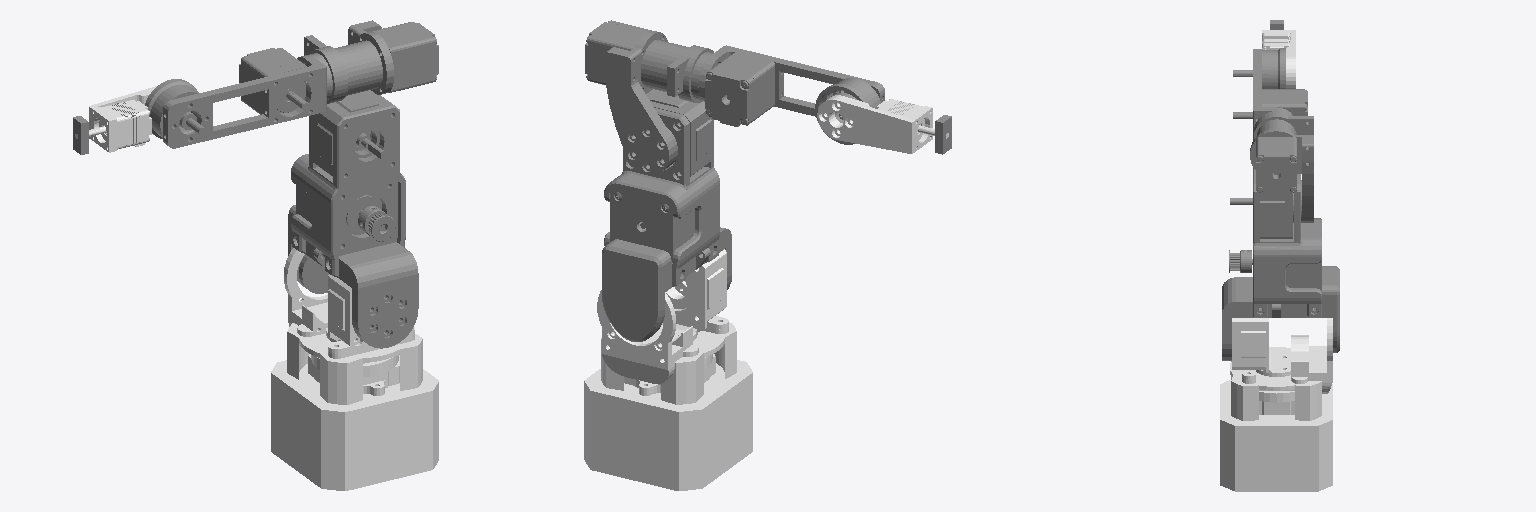
robot.urdf — robo6:
<?xml version="1.0" encoding="utf-8"?>
<!-- This URDF was automatically created by SolidWorks to URDF Exporter! Originally created by [author] ([email redacted]) 
     Commit Version: 1.6.0-4-g7f85cfe  Build Version: 1.6.7995.38578
     For more information, please see http://wiki.ros.org/sw_urdf_exporter -->
<robot
  name="robo6">
  <link
    name="base_link">
    <inertial>
      <origin
        xyz="1.878E-06 0.028912 -1.3038E-05"
        rpy="0 0 0" />
      <mass
        value="0.12045" />
      <inertia
        ixx="6.3203E-05"
        ixy="2.8394E-09"
        ixz="2.2738E-10"
        iyy="9.8085E-05"
        iyz="7.0478E-10"
        izz="6.2889E-05" />
    </inertial>
    <visual>
      <origin
        xyz="0 0 0"
        rpy="0 0 0" />
      <geometry>
        <mesh
          filename="package://robo6/meshes/base_link.STL" />
      </geometry>
      <material
        name="">
        <color
          rgba="0.96078 0.96078 0.96471 1" />
      </material>
    </visual>
    <collision>
      <origin
        xyz="0 0 0"
        rpy="0 0 0" />
      <geometry>
        <mesh
          filename="package://robo6/meshes/base_link.STL" />
      </geometry>
    </collision>
  </link>
  <link
    name="Link1">
    <inertial>
      <origin
        xyz="-4.92527363388455E-08 0.0349442574396109 0.000307533695580413"
        rpy="0 0 0" />
      <mass
        value="0.0659118172201022" />
      <inertia
        ixx="2.36472823445046E-05"
        ixy="-2.80763181176182E-11"
        ixz="-8.9871698594769E-12"
        iyy="3.18142849528654E-05"
        iyz="-1.84244071707729E-09"
        izz="2.94979037366588E-05" />
    </inertial>
    <visual>
      <origin
        xyz="0 0 0"
        rpy="0 0 0" />
      <geometry>
        <mesh
          filename="package://robo6/meshes/Link1.STL" />
      </geometry>
      <material
        name="">
        <color
          rgba="0.96078431372549 0.96078431372549 0.964705882352941 1" />
      </material>
    </visual>
    <collision>
      <origin
        xyz="0 0 0"
        rpy="0 0 0" />
      <geometry>
        <mesh
          filename="package://robo6/meshes/Link1.STL" />
      </geometry>
    </collision>
  </link>
  <joint
    name="Joint1"
    type="revolute">
    <origin
      xyz="0 0 0.0415"
      rpy="1.5707 0 0" />
    <parent
      link="base_link" />
    <child
      link="Link1" />
    <axis
      xyz="0 1 0" />
    <limit
      lower="-3.14"
      upper="3.14"
      effort="0"
      velocity="0" />
  </joint>
  <link
    name="Link2">
    <inertial>
      <origin
        xyz="5.24382262826091E-06 0.0536410224280989 -0.00443745142661563"
        rpy="0 0 0" />
      <mass
        value="0.15354999870256" />
      <inertia
        ixx="6.48684049795887E-05"
        ixy="-3.90286701622052E-11"
        ixz="-2.55081782957912E-09"
        iyy="4.61126385560208E-05"
        iyz="1.05957379714566E-06"
        izz="7.71458832673368E-05" />
    </inertial>
    <visual>
      <origin
        xyz="0 0 0"
        rpy="0 0 0" />
      <geometry>
        <mesh
          filename="package://robo6/meshes/Link2.STL" />
      </geometry>
      <material
        name="">
        <color
          rgba="0.627450980392157 0.627450980392157 0.627450980392157 1" />
      </material>
    </visual>
    <collision>
      <origin
        xyz="0 0 0"
        rpy="0 0 0" />
      <geometry>
        <mesh
          filename="package://robo6/meshes/Link2.STL" />
      </geometry>
    </collision>
  </link>
  <joint
    name="Joint2"
    type="revolute">
    <origin
      xyz="0 0.0535 0"
      rpy="0 0 0" />
    <parent
      link="Link1" />
    <child
      link="Link2" />
    <axis
      xyz="0 0 1" />
    <limit
      lower="-1"
      upper="1.57"
      effort="0"
      velocity="0" />
  </joint>
  <link
    name="Link3">
    <inertial>
      <origin
        xyz="0.0120475717228843 0.035035947202792 -0.00518320114030269"
        rpy="0 0 0" />
      <mass
        value="0.0676002455536992" />
      <inertia
        ixx="1.47656579114417E-05"
        ixy="-2.44665581059836E-06"
        ixz="6.15842251805329E-09"
        iyy="1.00493633448293E-05"
        iyz="-5.45934098629043E-07"
        izz="1.60840921021648E-05" />
    </inertial>
    <visual>
      <origin
        xyz="0 0 0"
        rpy="0 0 0" />
      <geometry>
        <mesh
          filename="package://robo6/meshes/Link3.STL" />
      </geometry>
      <material
        name="">
        <color
          rgba="0.627450980392157 0.627450980392157 0.627450980392157 1" />
      </material>
    </visual>
    <collision>
      <origin
        xyz="0 0 0"
        rpy="0 0 0" />
      <geometry>
        <mesh
          filename="package://robo6/meshes/Link3.STL" />
      </geometry>
    </collision>
  </link>
  <joint
    name="Joint3"
    type="revolute">
    <origin
      xyz="0 0.099 0"
      rpy="0 0 0" />
    <parent
      link="Link2" />
    <child
      link="Link3" />
    <axis
      xyz="0 0 1" />
    <limit
      lower="-1"
      upper="1"
      effort="0"
      velocity="0" />
  </joint>
  <link
    name="Link4">
    <inertial>
      <origin
        xyz="-0.0512830210113846 -3.4037477542187E-05 0.000741205706793905"
        rpy="0 0 0" />
      <mass
        value="0.0504466173853801" />
      <inertia
        ixx="7.08603575326675E-06"
        ixy="-2.26434036239613E-11"
        ixz="1.54581220155489E-06"
        iyy="2.21919182212061E-05"
        iyz="-2.04152826538135E-08"
        izz="2.23021426371424E-05" />
    </inertial>
    <visual>
      <origin
        xyz="0 0 0"
        rpy="0 0 0" />
      <geometry>
        <mesh
          filename="package://robo6/meshes/Link4.STL" />
      </geometry>
      <material
        name="">
        <color
          rgba="0.627450980392157 0.627450980392157 0.627450980392157 1" />
      </material>
    </visual>
    <collision>
      <origin
        xyz="0 0 0"
        rpy="0 0 0" />
      <geometry>
        <mesh
          filename="package://robo6/meshes/Link4.STL" />
      </geometry>
    </collision>
  </link>
  <joint
    name="Joint4"
    type="revolute">
    <origin
      xyz="-0.014187 0.041909 0"
      rpy="0 0 0" />
    <parent
      link="Link3" />
    <child
      link="Link4" />
    <axis
      xyz="1 0 0" />
    <limit
      lower="-3.14"
      upper="3.14"
      effort="0"
      velocity="0" />
  </joint>
  <link
    name="Link5">
    <inertial>
      <origin
        xyz="-0.028276116522767 -0.000114515854134301 -0.00387887665408256"
        rpy="0 0 0" />
      <mass
        value="0.017028601675043" />
      <inertia
        ixx="1.11109669358206E-06"
        ixy="-5.36640838203033E-10"
        ixz="2.17603339184217E-07"
        iyy="3.63221196171804E-06"
        iyz="-3.22059682421302E-13"
        izz="3.7981188308525E-06" />
    </inertial>
    <visual>
      <origin
        xyz="0 0 0"
        rpy="0 0 0" />
      <geometry>
        <mesh
          filename="package://robo6/meshes/Link5.STL" />
      </geometry>
      <material
        name="">
        <color
          rgba="0.96078431372549 0.96078431372549 0.964705882352941 1" />
      </material>
    </visual>
    <collision>
      <origin
        xyz="0 0 0"
        rpy="0 0 0" />
      <geometry>
        <mesh
          filename="package://robo6/meshes/Link5.STL" />
      </geometry>
    </collision>
  </link>
  <joint
    name="Joint5"
    type="revolute">
    <origin
      xyz="-0.10397 0 0"
      rpy="0 0 0" />
    <parent
      link="Link4" />
    <child
      link="Link5" />
    <axis
      xyz="0 0 1" />
    <limit
      lower="-2.6"
      upper="2.6"
      effort="0"
      velocity="0" />
  </joint>
  <link
    name="Link6">
    <inertial>
      <origin
        xyz="-0.00527028329076445 3.45215899660856E-06 -5.55111512312578E-17"
        rpy="0 0 0" />
      <mass
        value="0.000951131899037555" />
      <inertia
        ixx="4.15899516019936E-08"
        ixy="2.14226853954163E-24"
        ixz="7.47047490711953E-24"
        iyy="1.0274043664262E-08"
        iyz="-8.27180612553028E-25"
        izz="3.52789575170549E-08" />
    </inertial>
    <visual>
      <origin
        xyz="0 0 0"
        rpy="0 0 0" />
      <geometry>
        <mesh
          filename="package://robo6/meshes/Link6.STL" />
      </geometry>
      <material
        name="">
        <color
          rgba="0.627450980392157 0.627450980392157 0.627450980392157 1" />
      </material>
    </visual>
    <collision>
      <origin
        xyz="0 0 0"
        rpy="0 0 0" />
      <geometry>
        <mesh
          filename="package://robo6/meshes/Link6.STL" />
      </geometry>
    </collision>
  </link>
  <joint
    name="Joint6"
    type="revolute">
    <origin
      xyz="-0.05773 0 0"
      rpy="0 0 0" />
    <parent
      link="Link5" />
    <child
      link="Link6" />
    <axis
      xyz="1 0 0" />
    <limit
      lower="-3.14"
      upper="3.14"
      effort="0"
      velocity="0" />
  </joint>
</robot>

--- What the picture shows (computed from the rendered views, not written in the file) ---
The picture shows the robot from 3 angles, left to right: view 1: azimuth 30°, elevation 25°; view 2: azimuth 150°, elevation 25°; view 3: azimuth 270°, elevation 25°; orthographic projection.
Model robo6 with 7 links and 6 joints (6 revolute), rooted at base_link, posed all joints at 0.
Visible links, largest first — view 1: Link2, base_link, Link4, Link1, Link3, Link5, Link6; view 2: Link2, base_link, Link1, Link3, Link4, Link5, Link6; view 3: Link2, base_link, Link1, Link3, Link4, Link5.
Boxes of the visible links, <box> form: Link2: <box>288,90,418,348</box>; base_link: <box>271,354,438,490</box>; Link4: <box>145,48,332,148</box>; Link1: <box>284,248,422,404</box>; Link3: <box>304,20,438,103</box>; Link5: <box>75,86,156,152</box>; Link6: <box>73,116,88,154</box>; Link2: <box>602,89,731,341</box>; base_link: <box>584,354,752,490</box>; Link1: <box>597,249,736,404</box>; Link3: <box>585,20,713,174</box>; Link4: <box>691,45,884,144</box>; Link5: <box>817,95,948,153</box>; Link6: <box>935,115,951,154</box>; Link2: <box>1222,168,1339,360</box>; base_link: <box>1220,380,1332,491</box>; Link1: <box>1230,318,1332,420</box>; Link3: <box>1250,111,1313,222</box>; Link4: <box>1233,48,1307,140</box>; Link5: <box>1262,30,1295,88</box>.
Size in the robot's own frame: 0.231 by 0.0825 by 0.2629 metres.
Meshes: 7 distinct files referenced, 7 mesh visuals loaded (7 binary STL).